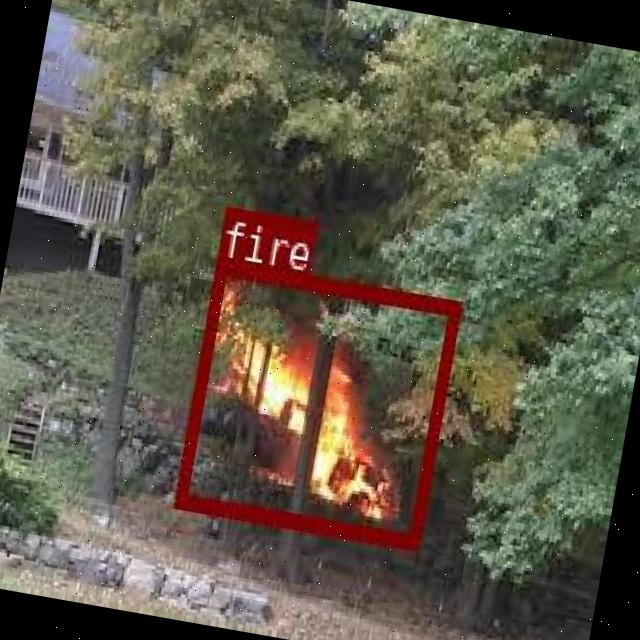fire: (173, 256, 460, 547)
